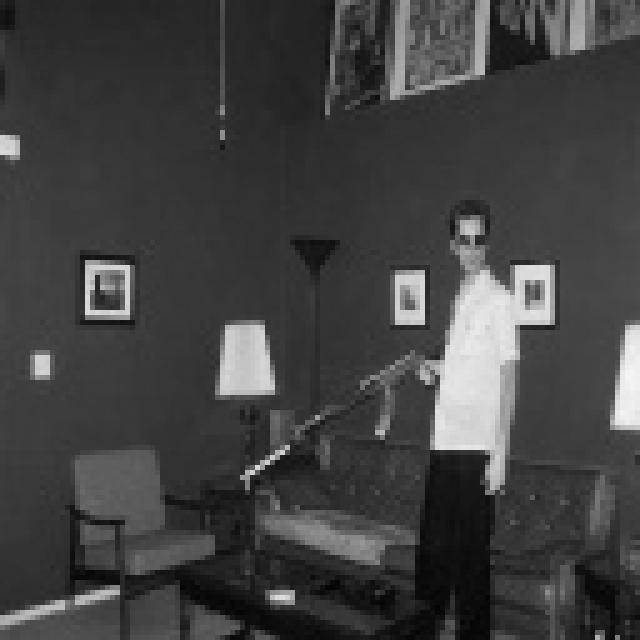Rifle: (216, 327, 429, 496)
